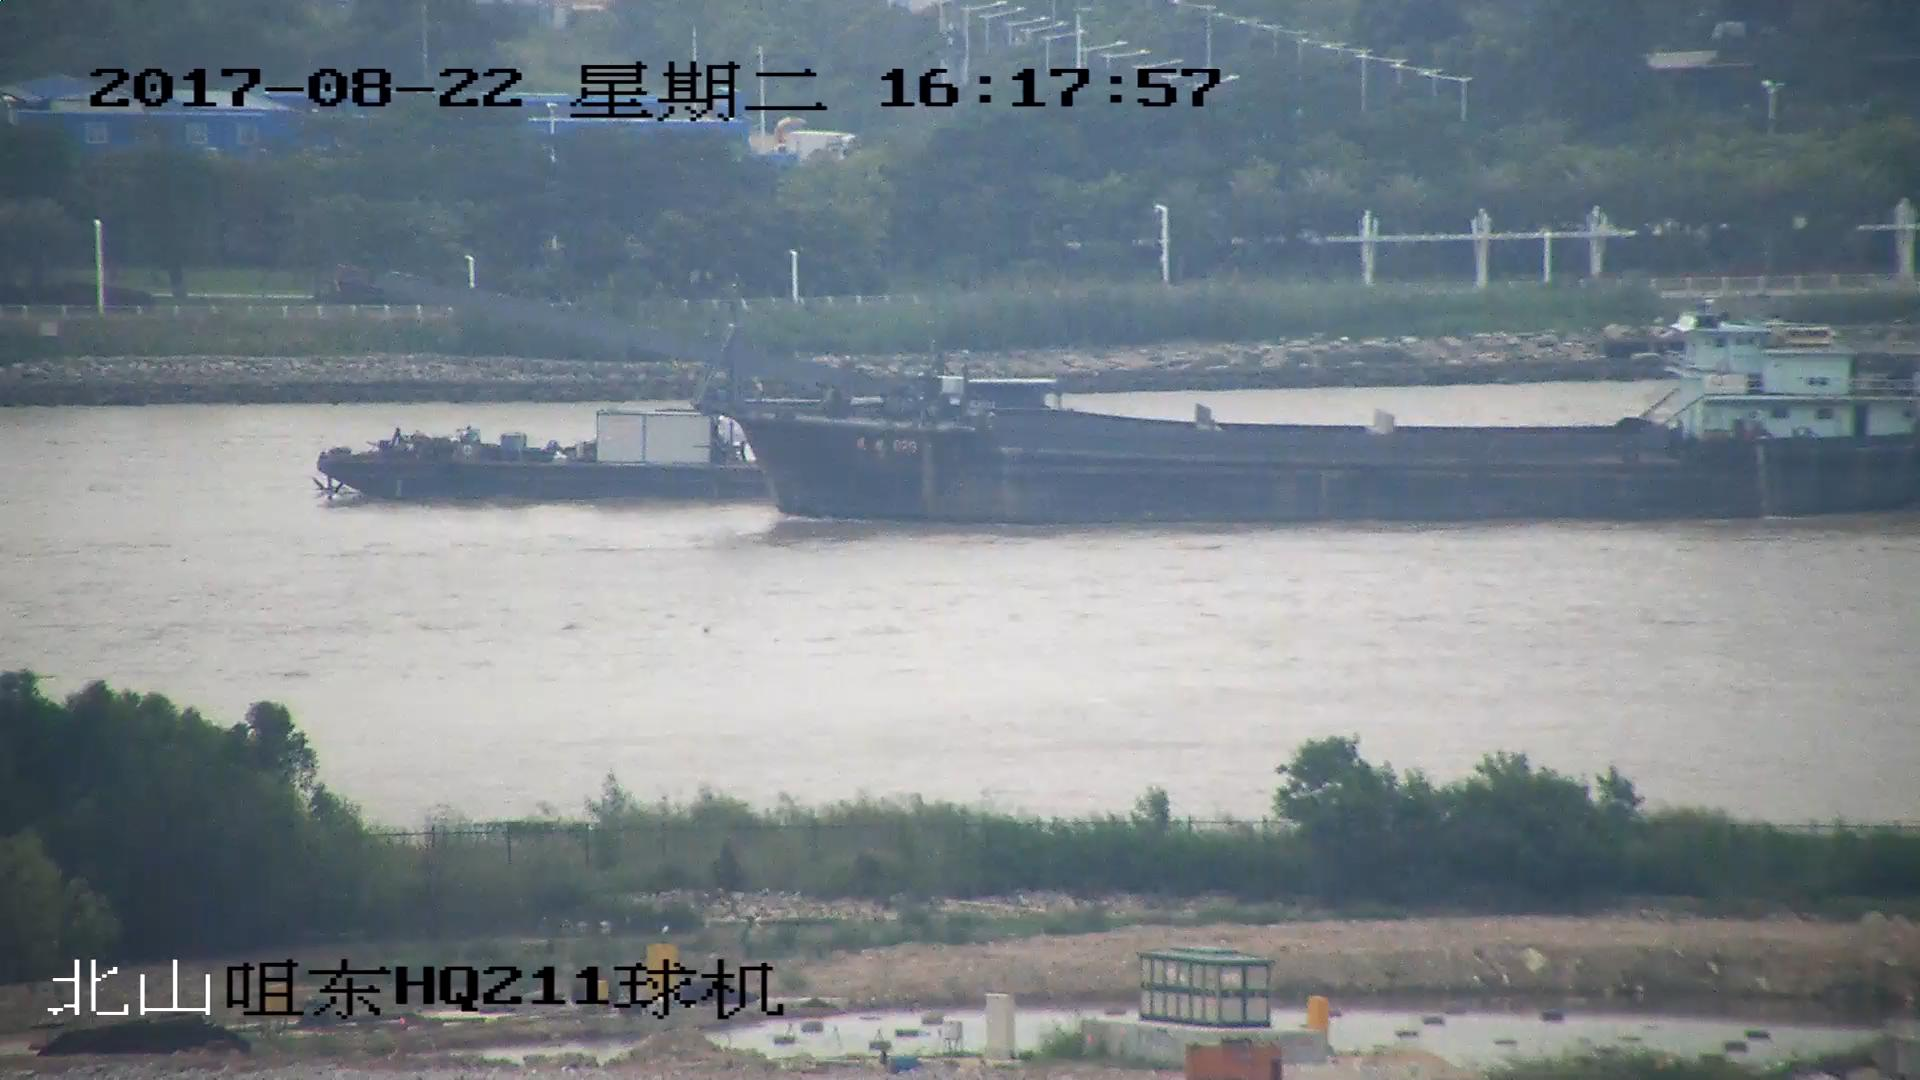bulk cargo carrier: (340, 261, 1920, 532), (316, 403, 827, 510)
